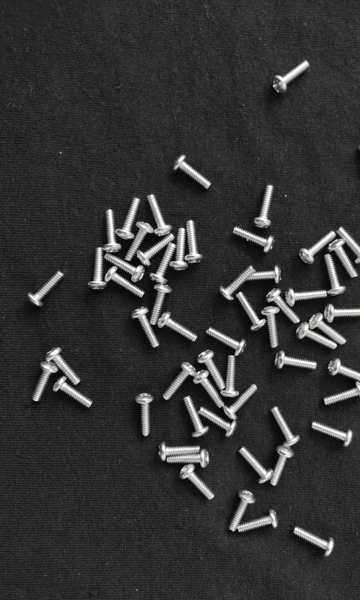shortscrew: (237, 446, 274, 485), (171, 155, 212, 189), (27, 271, 64, 308), (161, 362, 197, 400), (292, 526, 336, 557), (222, 384, 258, 421), (137, 233, 175, 268), (105, 265, 145, 298), (265, 288, 301, 324), (179, 464, 214, 501), (46, 347, 80, 385), (157, 312, 198, 343), (220, 266, 255, 302), (270, 405, 300, 447), (273, 61, 310, 95), (299, 232, 337, 265), (53, 377, 93, 408), (131, 307, 160, 349), (308, 313, 347, 344), (145, 283, 173, 326), (237, 292, 267, 332), (198, 408, 238, 438), (124, 221, 154, 261), (206, 327, 247, 356), (228, 489, 255, 533), (146, 192, 173, 236), (193, 370, 224, 408), (329, 239, 359, 278), (182, 396, 209, 439), (232, 227, 276, 253), (197, 350, 226, 389), (150, 243, 177, 284), (296, 323, 338, 349), (116, 198, 142, 240), (33, 361, 59, 402), (236, 510, 279, 534), (184, 217, 205, 264), (312, 423, 353, 447), (324, 254, 346, 296), (271, 446, 294, 486), (169, 228, 190, 271), (323, 383, 360, 407), (255, 186, 275, 229), (134, 393, 154, 436), (274, 350, 317, 370), (158, 441, 200, 461), (286, 288, 327, 308), (167, 449, 210, 468), (88, 248, 107, 291), (221, 355, 240, 398), (338, 228, 360, 265), (328, 358, 360, 383), (261, 307, 280, 349), (104, 210, 122, 254), (246, 265, 282, 283), (324, 305, 360, 323), (357, 142, 360, 186)
